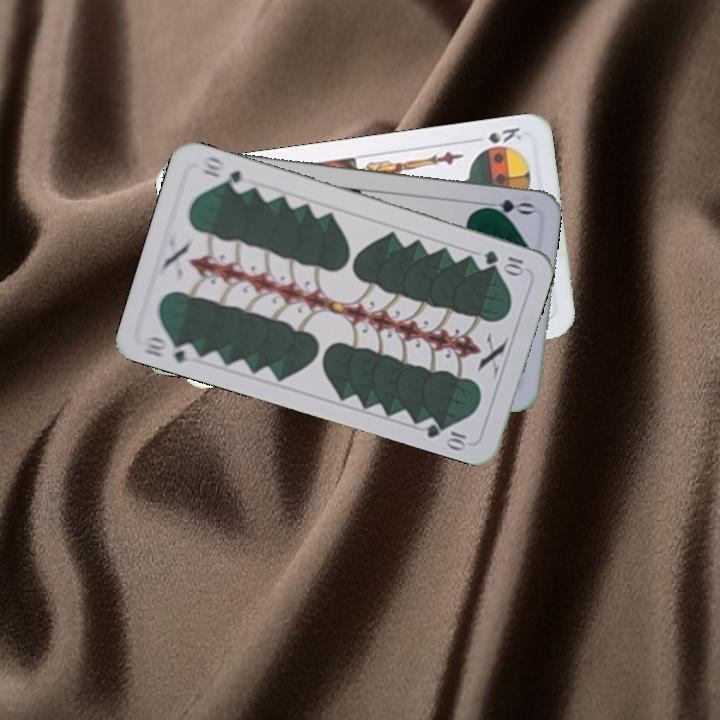G10: (139, 332, 199, 366), (480, 246, 526, 277)
GO: (476, 195, 536, 218)
SK: (467, 123, 524, 146)
